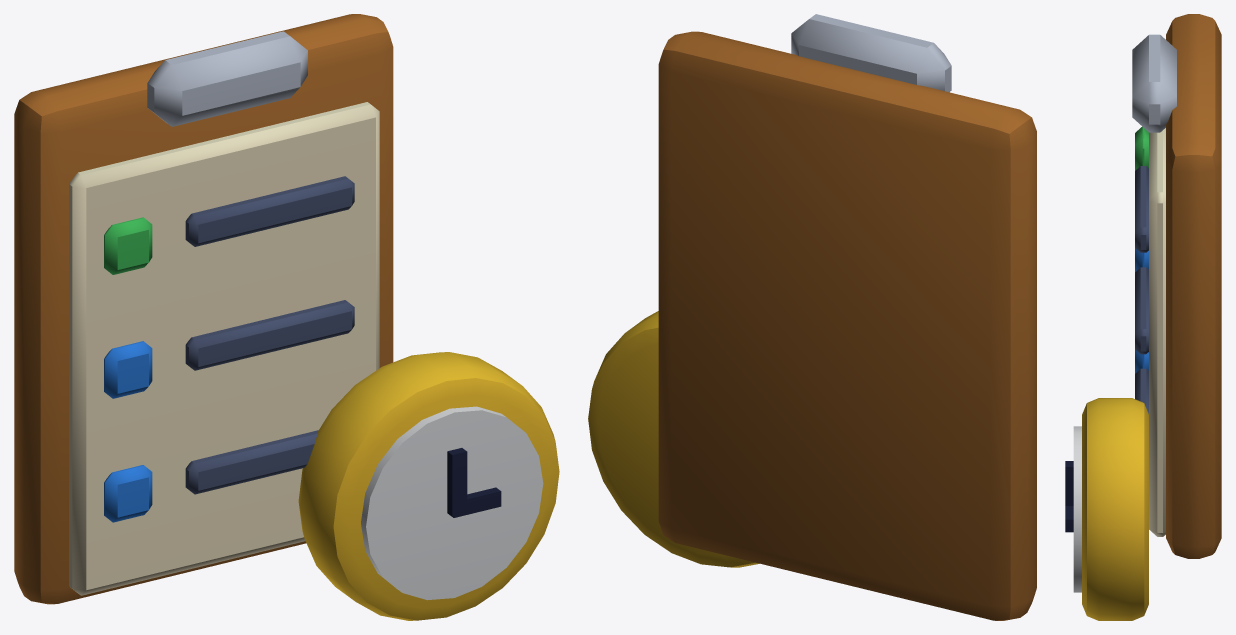
Rendered from ui_queue.glb.
3 views of the same model, side by side, from view 1: azimuth 30°, elevation 25°; view 2: azimuth 150°, elevation 25°; view 3: azimuth 270°, elevation 25° (orthographic). The views are drawn at different scales.
Parts seen in each view (by area): view 1: body; view 2: body; view 3: body.
Part boxes in pixels (x1,y1,x2,y2): body: [14, 14, 559, 620]; body: [588, 14, 1036, 620]; body: [1065, 14, 1221, 620].
Size of the model in its own units: 0.405 by 0.475 by 0.14.
